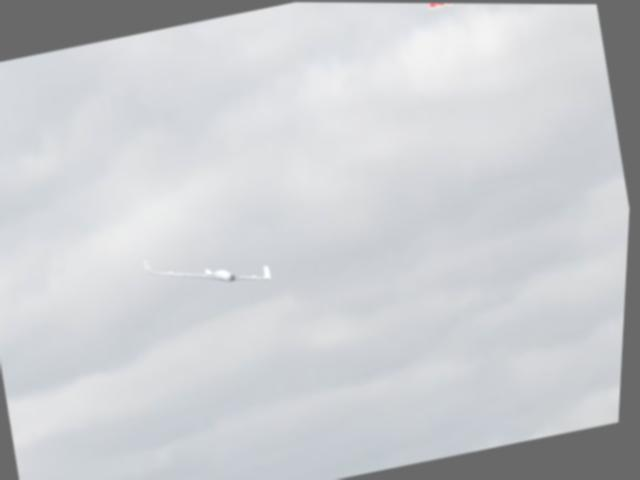flying wing: (140, 229, 282, 315)
